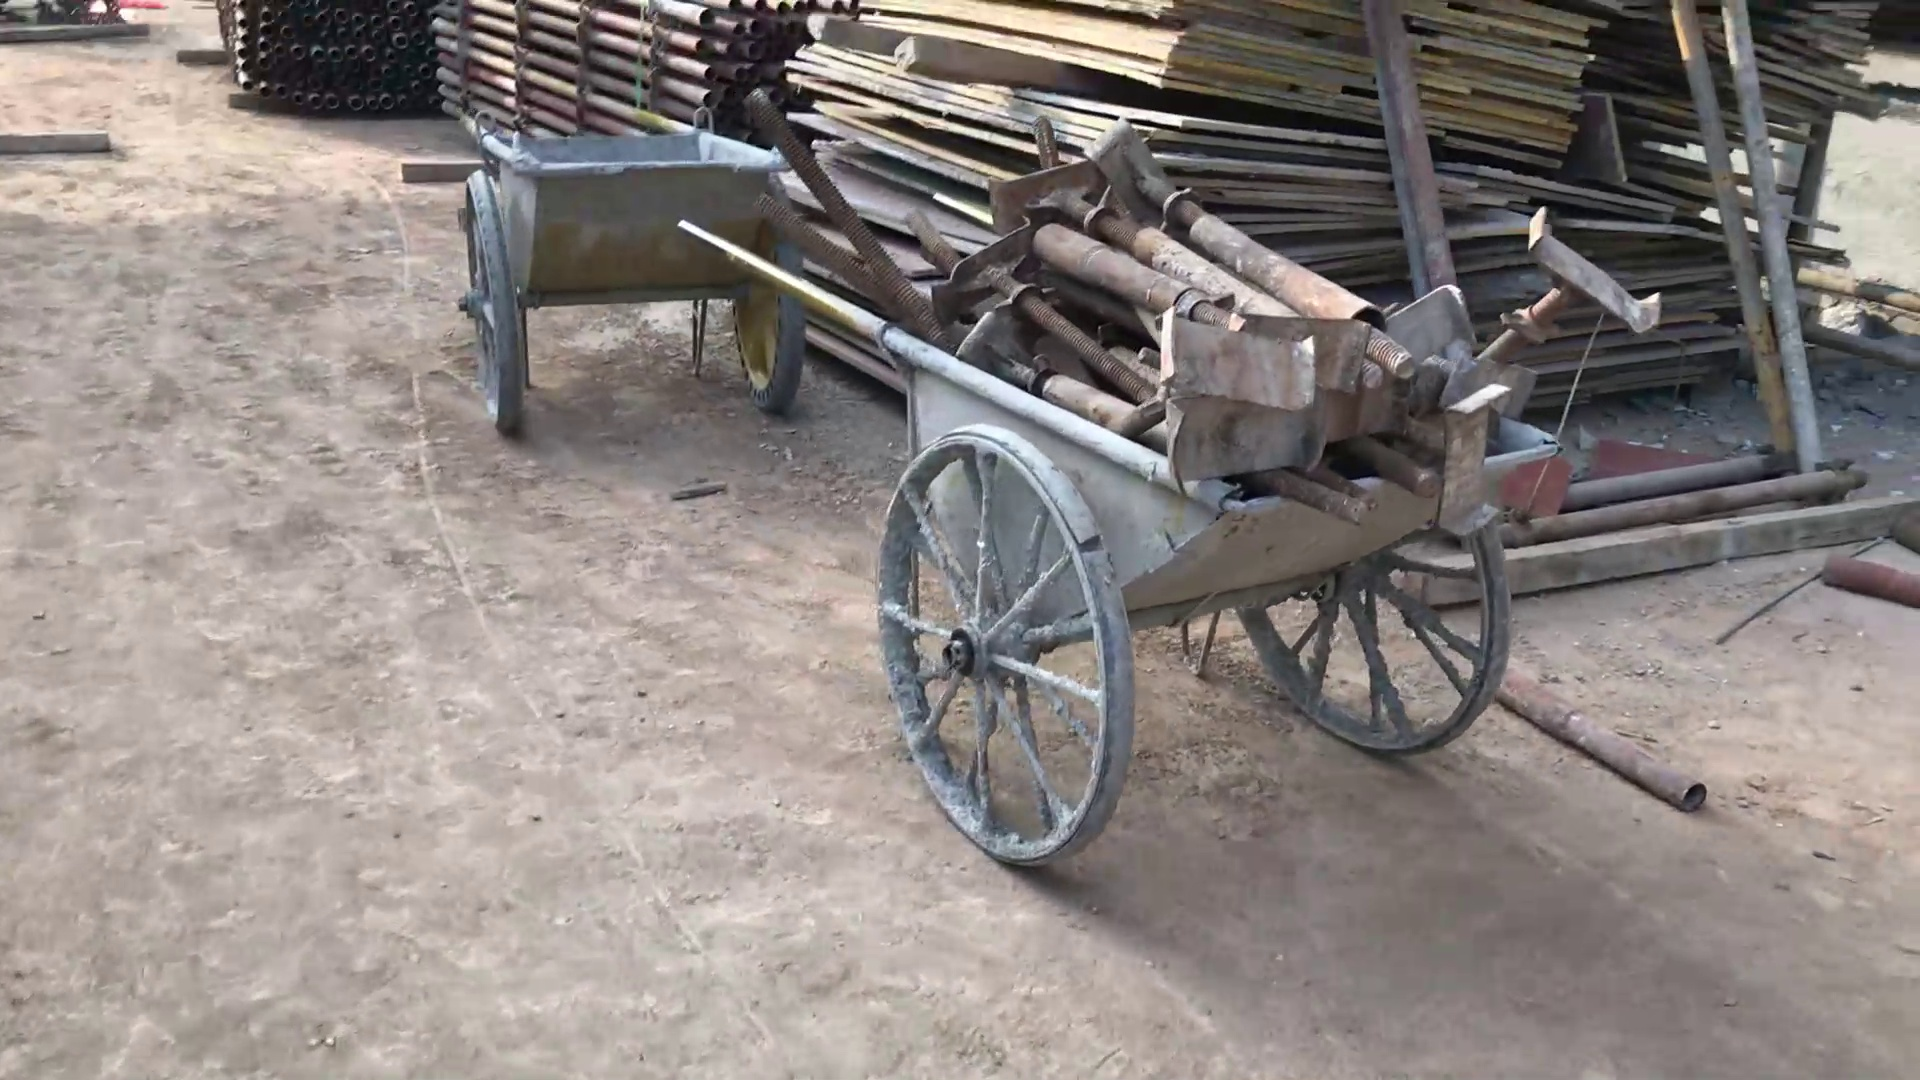board: (808, 1, 1883, 397)
handcart: (674, 191, 1567, 874), (454, 105, 808, 436)
scaffold: (434, 1, 852, 136), (216, 1, 435, 123)
